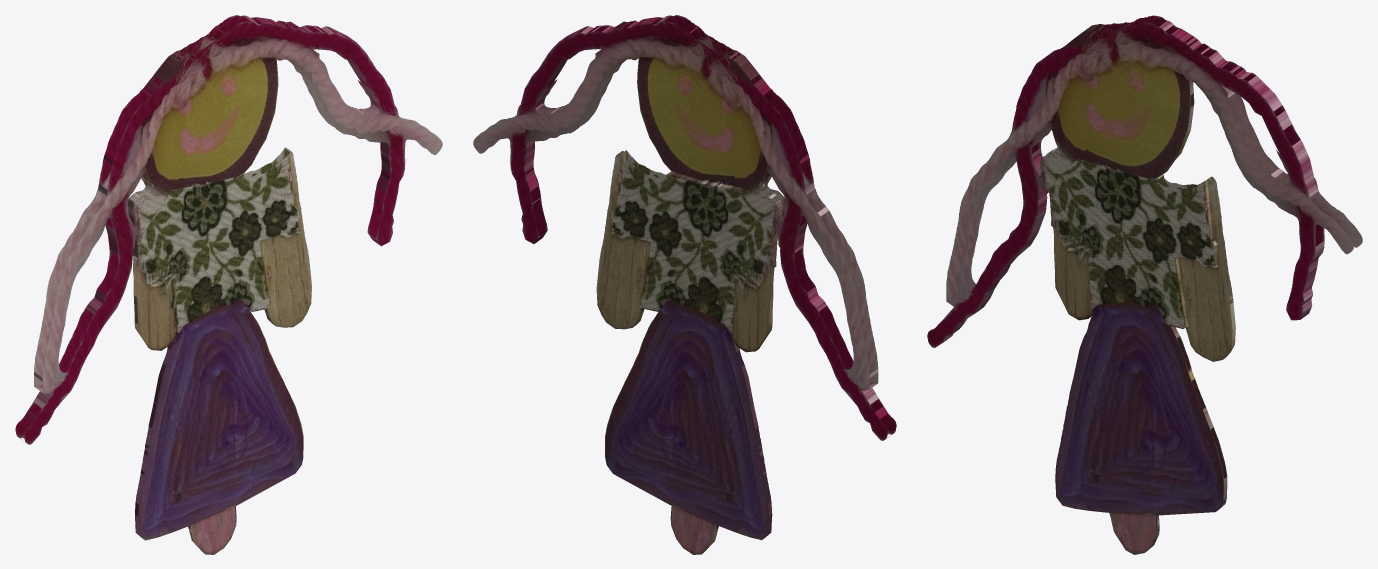
File: personaje7.fbx
The picture shows the model from 3 angles, left to right: view 1: azimuth 30°, elevation 25°; view 2: azimuth 150°, elevation 25°; view 3: azimuth 330°, elevation 25°; orthographic projection. The views are drawn at different scales.
Parts seen in each view (by area): view 1: Plane.004; view 2: Plane.004; view 3: Plane.004.
Part boxes in pixels (x1,y1,x2,y2): Plane.004: (15, 15, 442, 554); Plane.004: (473, 15, 896, 554); Plane.004: (927, 15, 1362, 554).
Size of the model in its own units: 222 by 270 by 8.3.
Materials: 1 (1 with a texture image).
